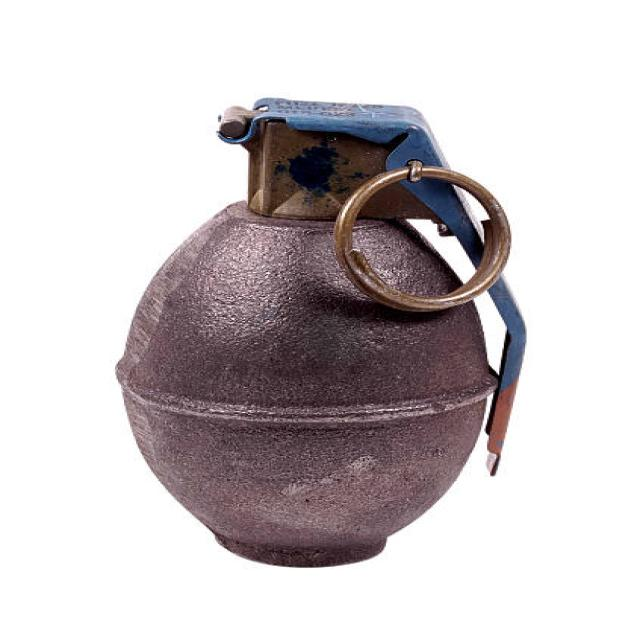grenade: (99, 94, 540, 588)
